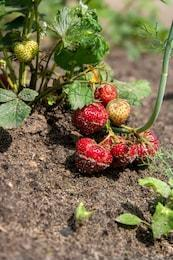Fresa: (72, 136, 113, 181), (71, 98, 109, 136), (93, 79, 119, 109)
